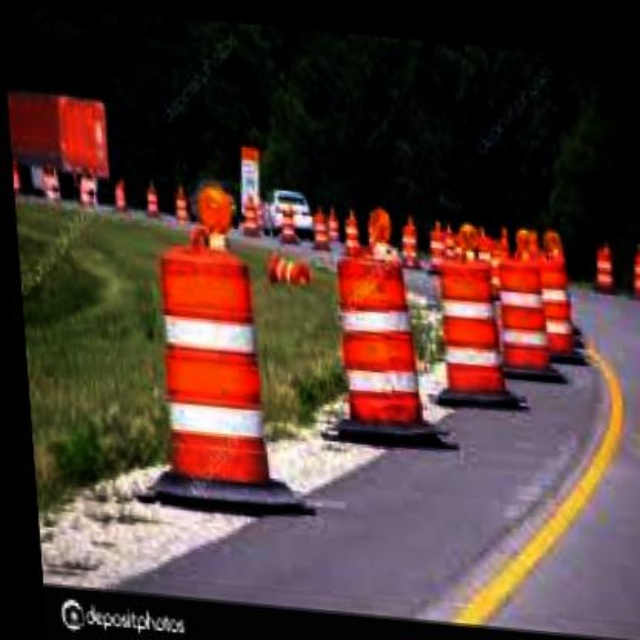obstacle: (152, 235, 263, 494), (333, 249, 420, 419), (437, 253, 500, 388)
